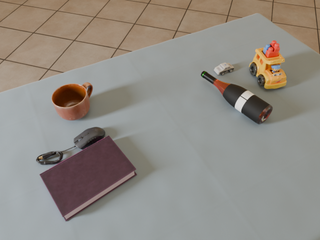book: (40, 136, 137, 221)
bottle: (201, 71, 273, 124)
cup: (52, 82, 93, 120)
mouse: (73, 127, 105, 150)
toy_car: (249, 41, 286, 89), (214, 63, 234, 75)
